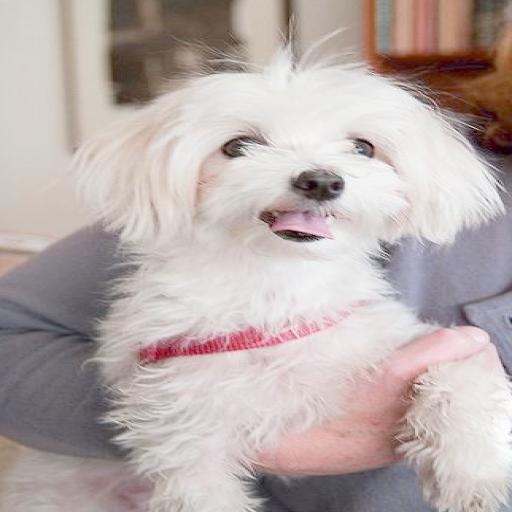dog_face: (76, 68, 498, 263)
